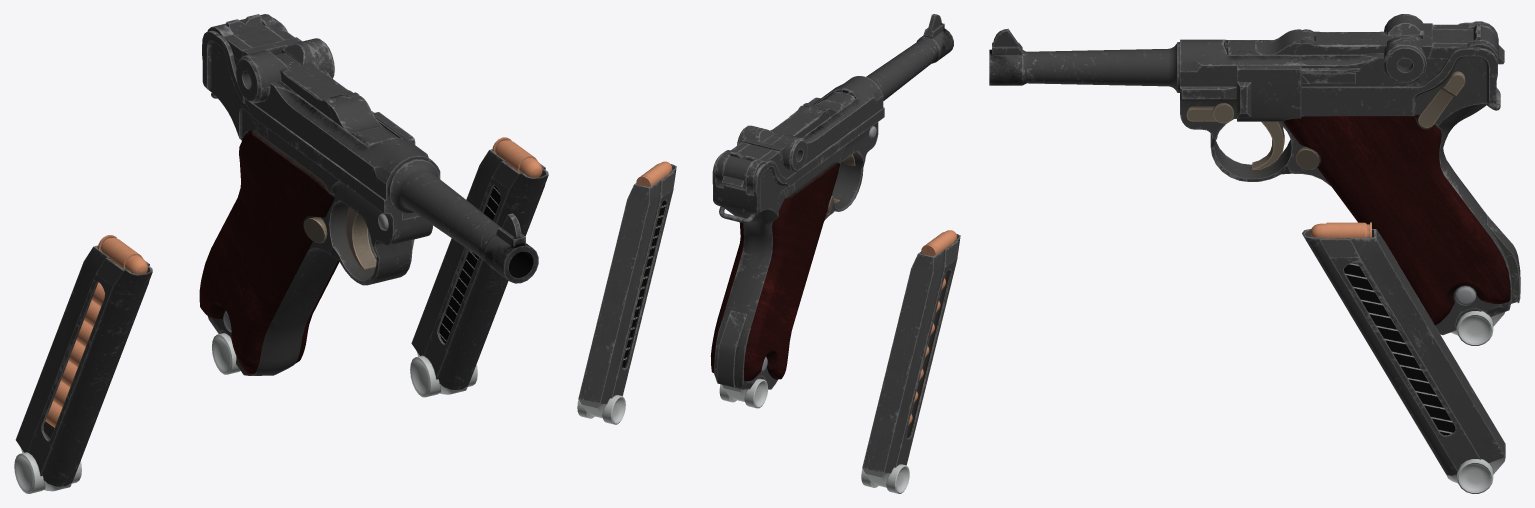
3 renders of one model, left to right at view 1: azimuth 30°, elevation 25°; view 2: azimuth 150°, elevation 25°; view 3: azimuth 270°, elevation 25°, orthographic. The views are drawn at different scales.
Parts seen in each view (by area): view 1: Circle, Circle.004, Circle.005, Cylinder.012, Cube.002, Cylinder.010, Cube.007, Circle.003, Circle.001; view 2: Circle, Circle.005, Circle.004, Cylinder.012, Cylinder.010, Circle.001, Cube.002, Cube.007; view 3: Circle, Circle.005, Cylinder.012, Cylinder.010, Cube.007, Circle.001, Circle.003.
Part boxes in pixels (bbox=[...]): Circle: bbox=[199, 14, 538, 375]; Circle.004: bbox=[14, 245, 152, 493]; Circle.005: bbox=[410, 137, 548, 397]; Cylinder.012: bbox=[222, 14, 334, 103]; Cube.002: bbox=[45, 235, 147, 427]; Cylinder.010: bbox=[275, 53, 359, 118]; Cube.007: bbox=[328, 95, 398, 146]; Circle.003: bbox=[346, 207, 376, 269]; Circle.001: bbox=[212, 331, 240, 374]; Circle: bbox=[710, 14, 953, 389]; Circle.005: bbox=[577, 161, 676, 424]; Circle.004: bbox=[861, 234, 960, 493]; Cylinder.012: bbox=[722, 125, 807, 188]; Cylinder.010: bbox=[764, 105, 828, 144]; Circle.001: bbox=[719, 376, 767, 408]; Cube.002: bbox=[908, 230, 957, 425]; Cube.007: bbox=[803, 92, 855, 117]; Circle: bbox=[989, 21, 1520, 335]; Circle.005: bbox=[1302, 222, 1505, 493]; Cylinder.012: bbox=[1383, 14, 1504, 83]; Cylinder.010: bbox=[1295, 29, 1421, 54]; Cube.007: bbox=[1224, 29, 1315, 54]; Circle.001: bbox=[1451, 308, 1504, 345]; Circle.003: bbox=[1215, 121, 1284, 170].
Size of the model in its own units: 337 by 303 by 396.
